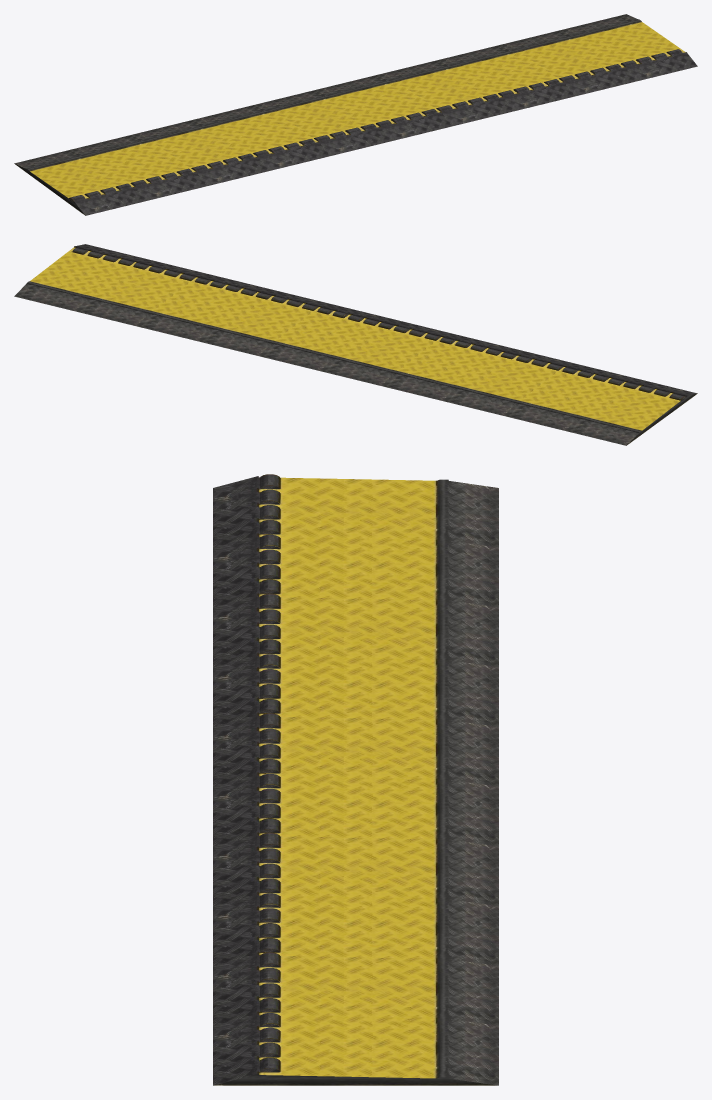
The model's file is bump_1_060.dae.
The picture shows the model from 3 angles, top to bottom: view 1: azimuth 30°, elevation 25°; view 2: azimuth 150°, elevation 25°; view 3: azimuth 270°, elevation 25°; orthographic projection. The views are drawn at different scales.
Parts seen in each view (by area): view 1: group_3 (×4), group_2 (×4), group_8, group_7; view 2: group_3 (×4), group_8, group_2 (×4), group_7; view 3: group_3 (×4), group_8, group_2 (×4), group_7.
Part boxes in pixels (bbox=[...]): group_3 (×4): bbox=[14, 14, 685, 206]; group_2 (×4): bbox=[74, 52, 697, 215]; group_8: bbox=[137, 104, 317, 168]; group_7: bbox=[197, 142, 329, 185]; group_3 (×4): bbox=[14, 247, 686, 445]; group_8: bbox=[382, 336, 563, 415]; group_2 (×4): bbox=[74, 244, 697, 401]; group_7: bbox=[441, 334, 574, 366]; group_3 (×4): bbox=[258, 477, 498, 1085]; group_8: bbox=[258, 597, 498, 726]; group_2 (×4): bbox=[213, 476, 258, 1085]; group_7: bbox=[213, 595, 258, 726].
Size of the model in its own units: 158 by 31.95 by 1.72.
1 material, 1 textured.
